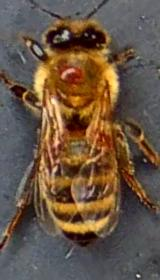varroa_mite: (82, 120, 119, 152), (51, 62, 88, 84)
